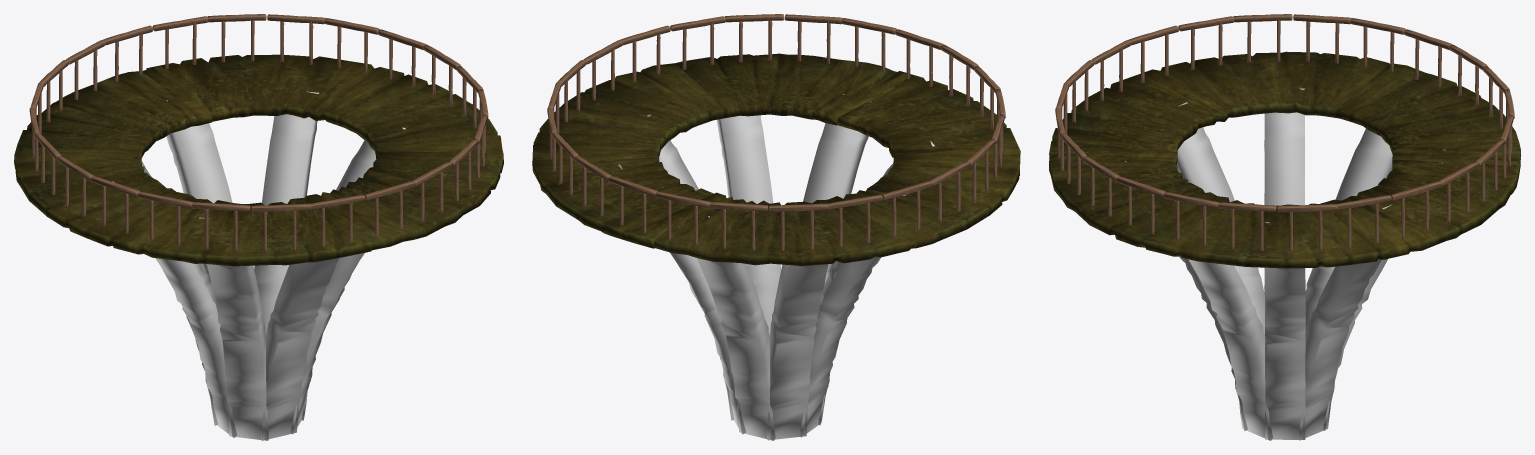
Rendered from SM_platform_supported_high_fenced.fbx.
3 renders of one model, left to right at view 1: azimuth 30°, elevation 25°; view 2: azimuth 150°, elevation 25°; view 3: azimuth 270°, elevation 25°, orthographic.
Parts seen in each view (by area): view 1: platform_supported_high_fenced; view 2: platform_supported_high_fenced; view 3: platform_supported_high_fenced.
Boxes of the visible parts, <box> form: platform_supported_high_fenced: <box>14,14,503,440</box>; platform_supported_high_fenced: <box>532,14,1020,440</box>; platform_supported_high_fenced: <box>1049,14,1520,440</box>.
Bounding box in the file's own units: 1672 × 1167 × 1599.
